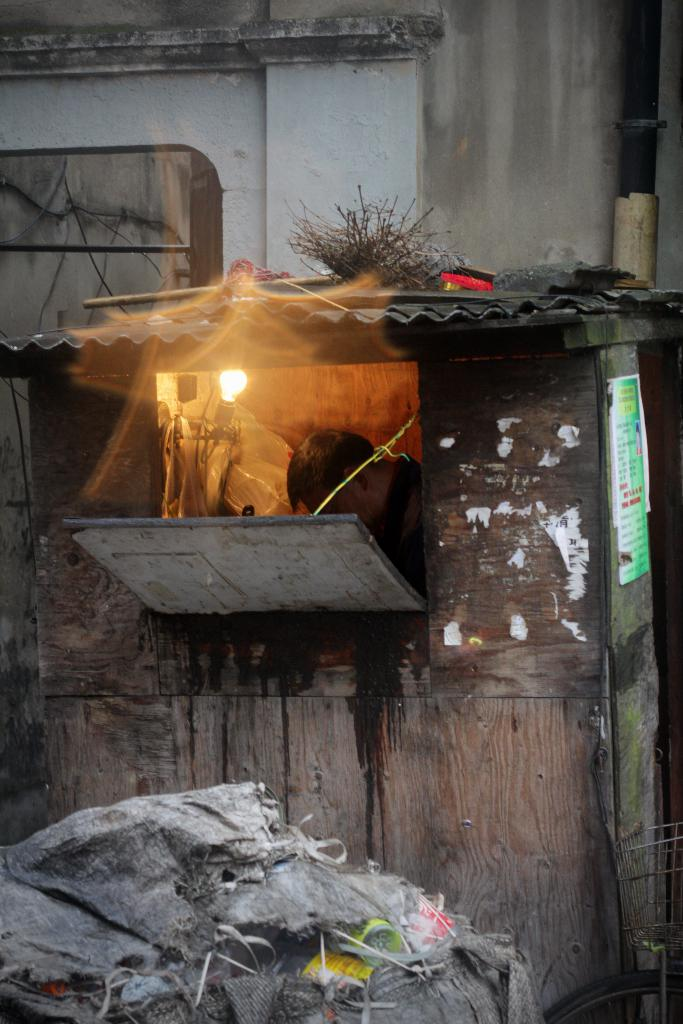person: (283, 426, 425, 596)
